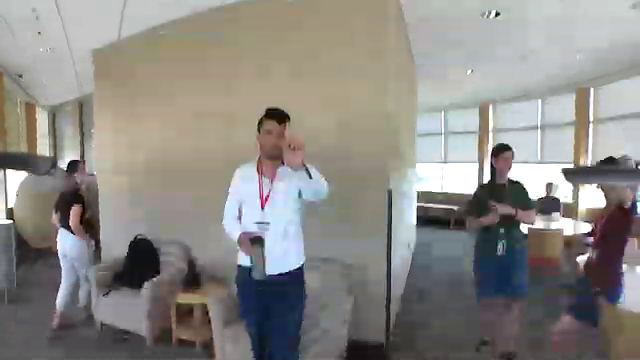up: (275, 115, 307, 170)
